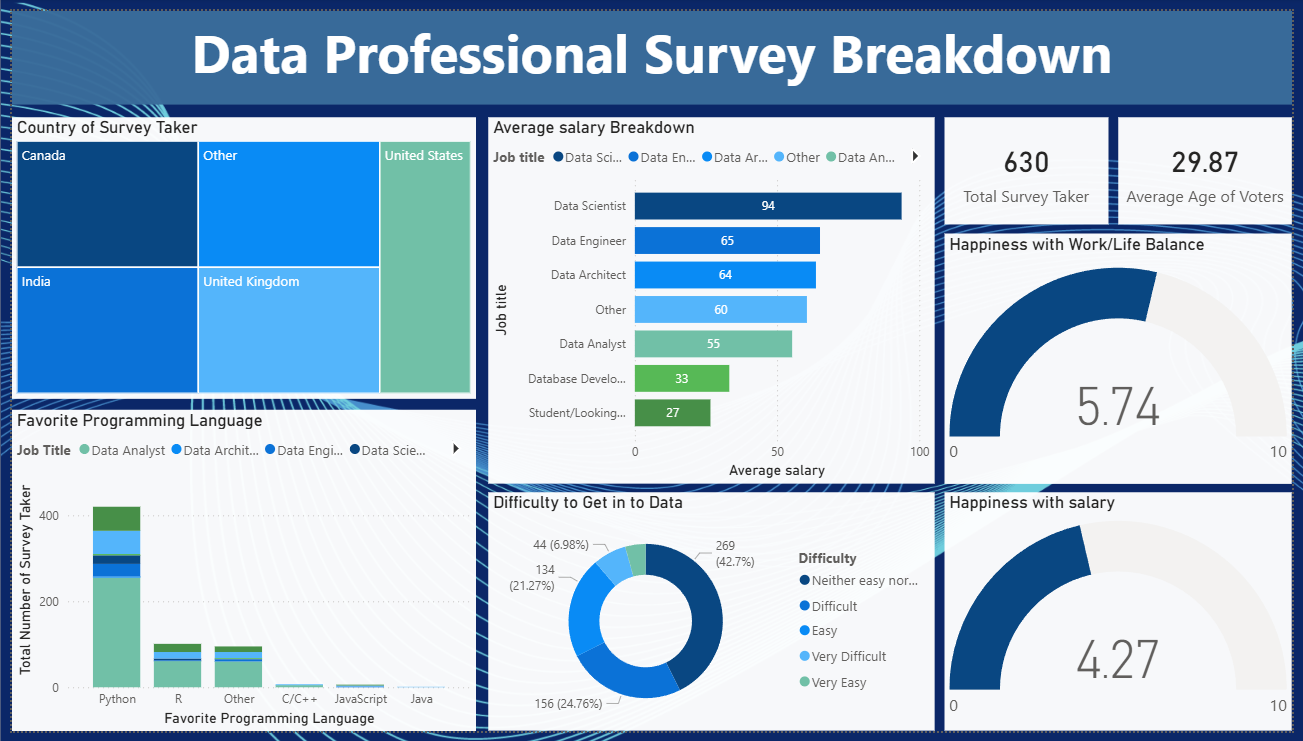

The page's visual inventory and layout, read from the dashboard file:
{"tool":"powerbi","page":{"name":"Page 1","canvas":[1280,720],"ordinal":0},"visuals":[{"type":"textbox","box":[0,0,1280,93.8],"z":0},{"type":"barChart","title":"Average salary Breakdown","fields":{"Category":["Data Professional Survey.Q1 - Which Title Best Fits your Current Role?.1"],"Y":["Avg(Data Professional Survey.Average salary)"],"Series":["Data Professional Survey.Q1 - Which Title Best Fits your Current Role?.1"]},"box":[476.2,106.2,446.2,366.2],"z":1000},{"type":"card","fields":{"Values":["Count(Data Professional Survey.Unique ID)"]},"box":[932.5,106.2,163.8,107.5],"z":2000},{"type":"card","fields":{"Values":["Avg(Data Professional Survey.Q10 - Current Age)"]},"box":[1106.2,106.2,173.8,107.5],"z":3000},{"type":"columnChart","title":"Favorite Programming Language","fields":{"Category":["Data Professional Survey.Q5 - Favorite Programming Language.1"],"Y":["CountNonNull(Data Professional Survey.Unique ID)"],"Series":["Data Professional Survey.Q1 - Which Title Best Fits your Current Role?.1"]},"box":[0,398.8,463.8,321.2],"z":4000},{"type":"treemap","title":"Country of Survey Taker","fields":{"Group":["Data Professional Survey.Q11 - Which Country do you live in?.1"],"Values":["Count(Data Professional Survey.Q11 - Which Country do you live in?.1)"]},"box":[0,106.2,463.8,281.2],"z":5000},{"type":"gauge","title":"Happiness with salary","fields":{"Y":["Avg(Data Professional Survey.Q6 - How Happy are you in your Current Position with the following? (Salary))"],"MinValue":["Min(Data Professional Survey.Q6 - How Happy are you in your Current Position with the following? (Salary))1"],"MaxValue":["Max(Data Professional Survey.Q6 - How Happy are you in your Current Position with the following? (Salary))2"]},"box":[932.5,481.2,347.5,238.8],"z":6000},{"type":"gauge","title":"Happiness with Work/Life Balance","fields":{"Y":["Avg(Data Professional Survey.Q6 - How Happy are you in your Current Position with the following? (Work/Life Balance))"],"MinValue":["Min(Data Professional Survey.Q6 - How Happy are you in your Current Position with the following? (Work/Life Balance))"],"MaxValue":["Max(Data Professional Survey.Q6 - How Happy are you in your Current Position with the following? (Work/Life Balance))"]},"box":[932.5,222.5,347.5,250],"z":7000},{"type":"donutChart","title":"Difficulty to Get in to Data","fields":{"Category":["Data Professional Survey.Q7 - How difficult was it for you to break into Data?"],"Y":["CountNonNull(Data Professional Survey.Q7 - How difficult was it for you to break into Data?)"]},"box":[476.2,481.2,446.2,238.8],"z":8000}]}

Visuals, with their boxes in screenshot pixels (x1, y1, x2, y2), scaled from the page's 1280x720 canvas onto the 1303x741 screenshot:
textbox: (left=0, top=0, right=1302, bottom=97)
"Average salary Breakdown" barChart: (left=485, top=109, right=939, bottom=486)
card - Count(Data Professional Survey.Unique ID): (left=949, top=109, right=1116, bottom=220)
card - Avg(Data Professional Survey.Q10 - Current Age): (left=1126, top=109, right=1302, bottom=220)
"Favorite Programming Language" columnChart: (left=0, top=410, right=472, bottom=740)
"Country of Survey Taker" treemap: (left=0, top=109, right=472, bottom=399)
"Happiness with salary" gauge: (left=949, top=495, right=1302, bottom=740)
"Happiness with Work/Life Balance" gauge: (left=949, top=229, right=1302, bottom=486)
"Difficulty to Get in to Data" donutChart: (left=485, top=495, right=939, bottom=740)
